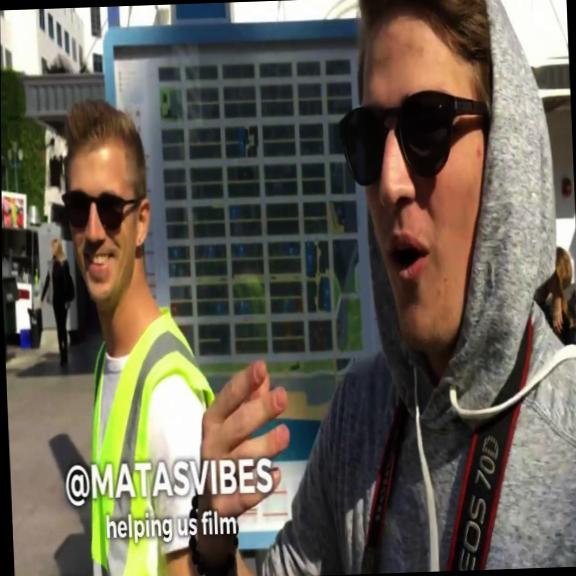safety_vest: (79, 304, 221, 576)
